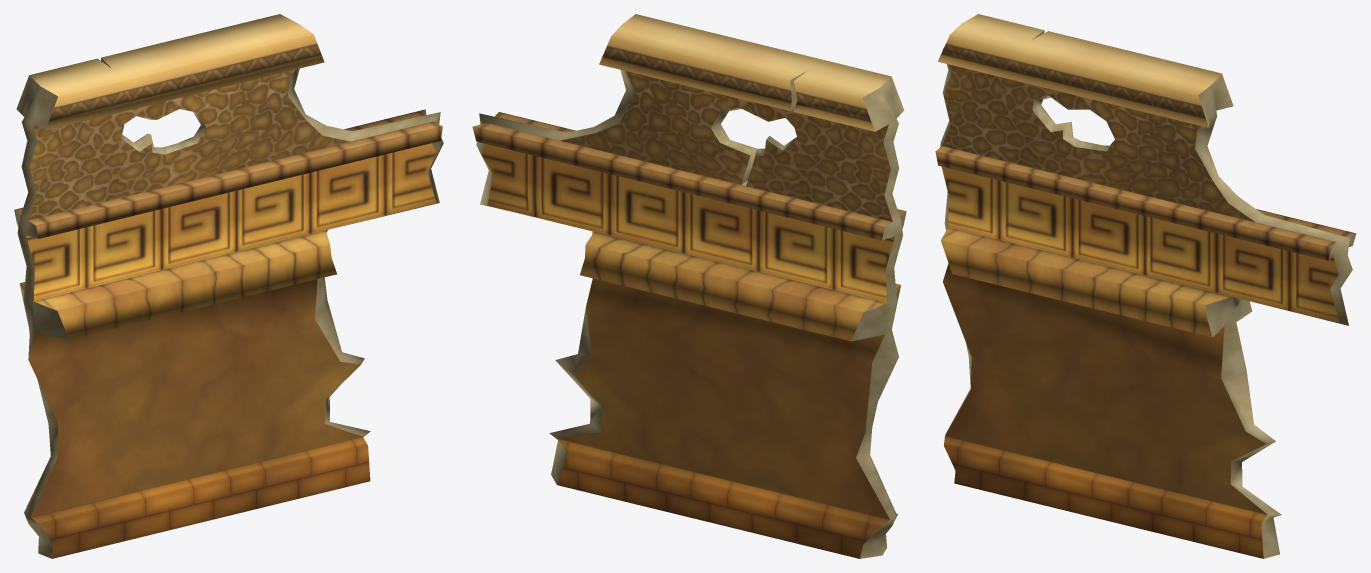
The model's file is RuinWall.FBX.
The picture shows the model from 3 angles, left to right: view 1: azimuth 30°, elevation 25°; view 2: azimuth 150°, elevation 25°; view 3: azimuth 330°, elevation 25°; orthographic projection. The views are drawn at different scales.
Parts seen in each view (by area): view 1: Wall_1; view 2: Wall_1; view 3: Wall_1.
Part boxes in pixels (<box>): Wall_1: <box>14,14,443,558</box>; Wall_1: <box>472,14,906,558</box>; Wall_1: <box>935,14,1356,558</box>.
Size of the model in its own units: 556 by 581 by 85.38.
